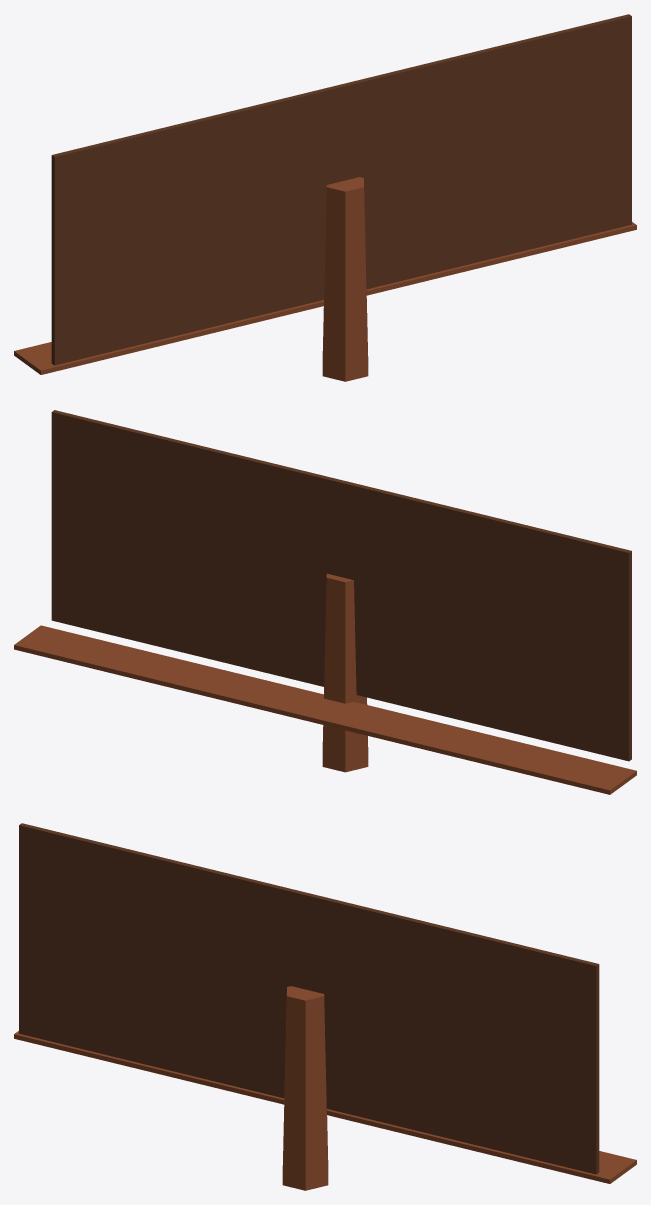
The model's file is billboard_street_lod1.glb.
3 views of the same model, one above another, from view 1: azimuth 30°, elevation 25°; view 2: azimuth 150°, elevation 25°; view 3: azimuth 330°, elevation 25° (orthographic).
Visible parts, largest first — view 1: billboard_street_lod1; view 2: billboard_street_lod1; view 3: billboard_street_lod1.
Part boxes in pixels (box(x1,y1,x2,y2)): billboard_street_lod1: box(14, 14, 636, 381); billboard_street_lod1: box(14, 410, 636, 794); billboard_street_lod1: box(14, 823, 636, 1190).
Size of the model in its own units: 8.32 by 3.77 by 1.08.
2 materials, 2 textured.
